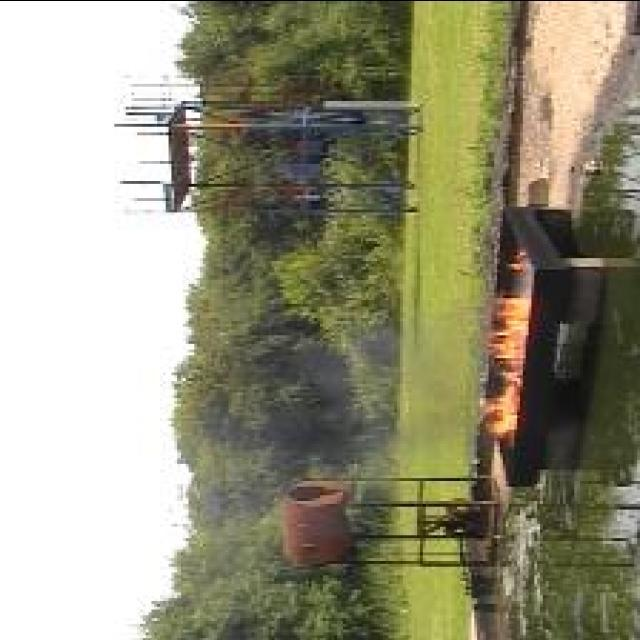Fire: (486, 294, 532, 360), (482, 367, 522, 433)
